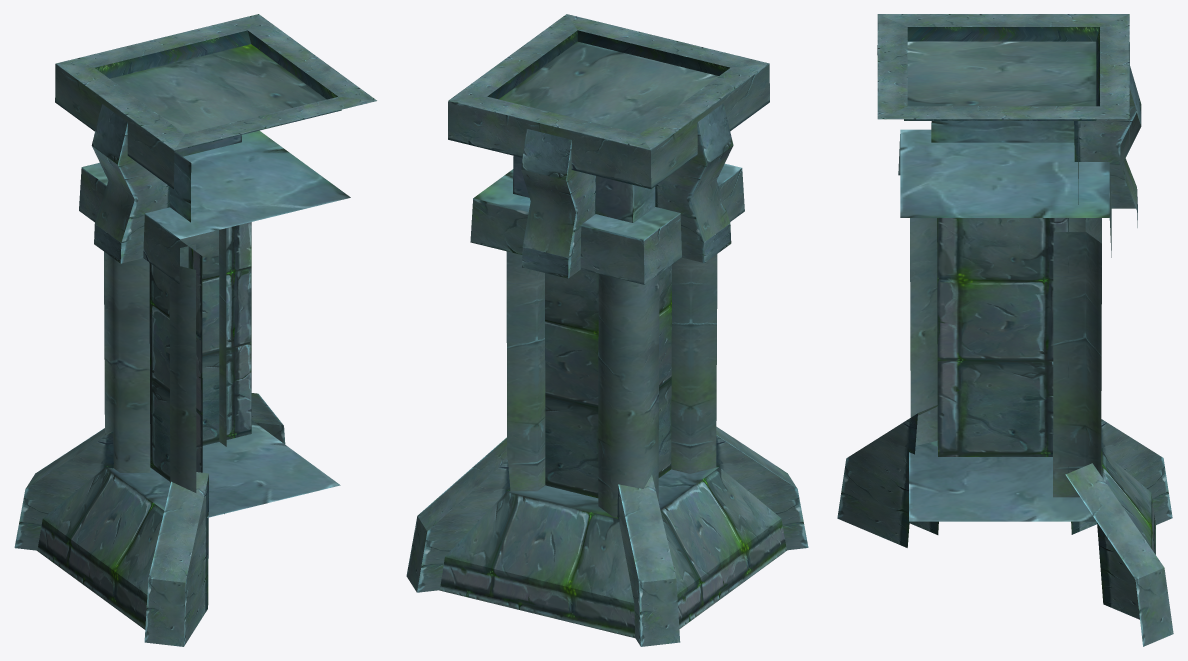
Rendered from wdsy_lizhu_a.FBX.
The picture shows the model from 3 angles, left to right: view 1: azimuth 30°, elevation 25°; view 2: azimuth 150°, elevation 25°; view 3: azimuth 270°, elevation 25°; orthographic projection. The views are drawn at different scales.
Parts seen in each view (by area): view 1: wdsy_lizhu_a_01; view 2: wdsy_lizhu_a_01; view 3: wdsy_lizhu_a_01.
Boxes of the visible parts, <box> form: wdsy_lizhu_a_01: <box>14,14,376,646</box>; wdsy_lizhu_a_01: <box>406,14,808,646</box>; wdsy_lizhu_a_01: <box>837,14,1173,646</box>.
Bounding box in the file's own units: 324 × 543 × 325.
